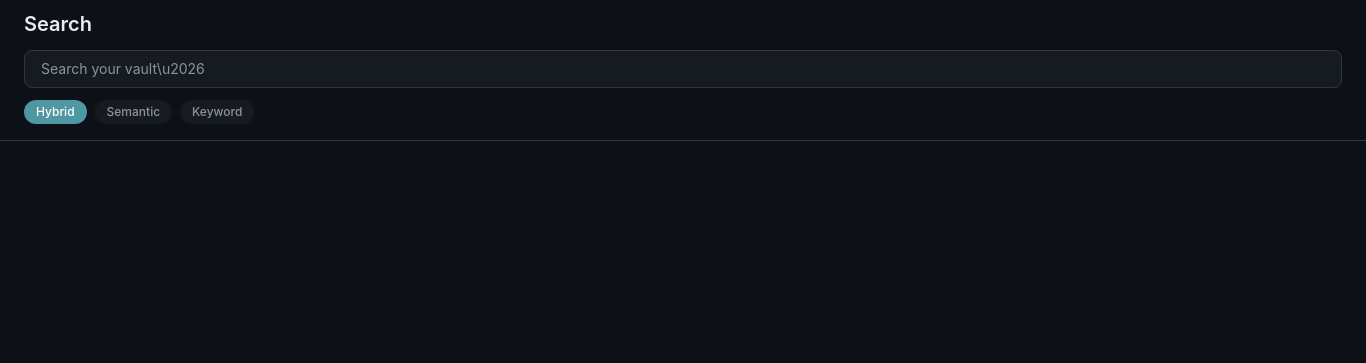
Test case: SearchPage — results › shows result titles and count badge when hook returns items
Type "EEG" into the search field. click: (683, 69)
box: x1=24 y1=50 x2=1342 y2=88
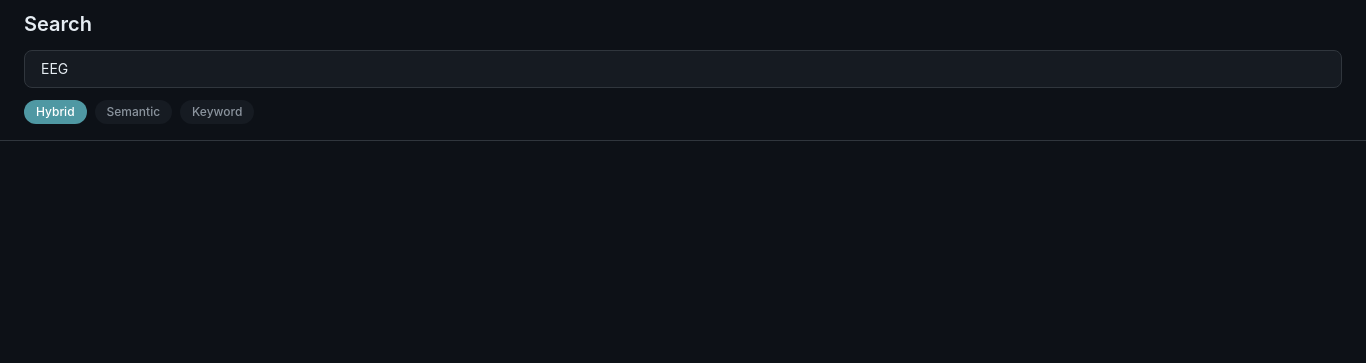
Submit the form, box x1=24 y1=50 x2=1342 y2=88
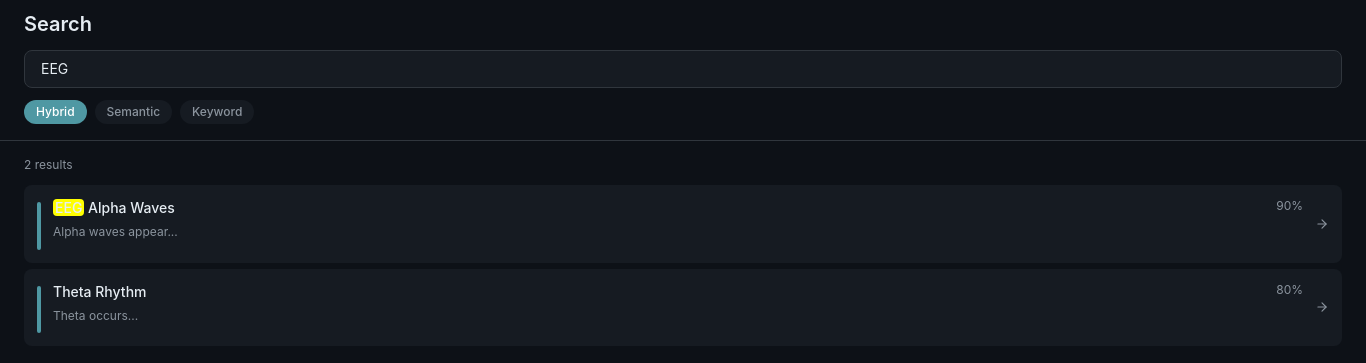
expect the heading "EEG Alpha Waves" is shown: met, box x1=53 y1=198 x2=175 y2=218
expect the heading "Theta Rhythm" is shown: met, box x1=53 y1=282 x2=146 y2=302
expect the text "2 results" is shown: met, box x1=24 y1=157 x2=73 y2=172
